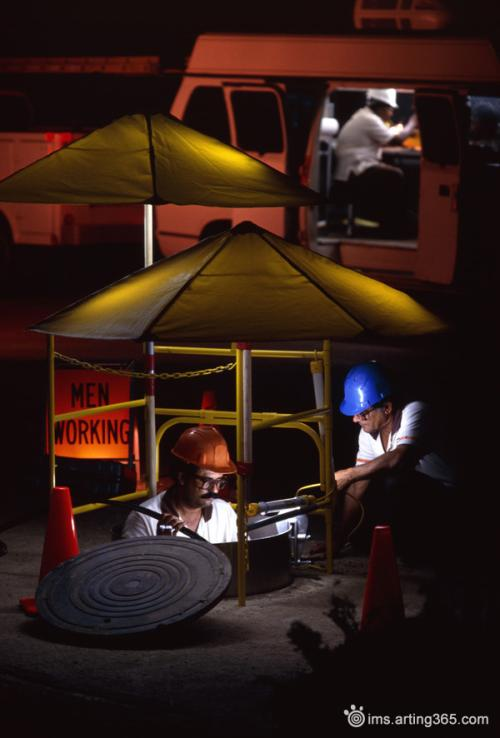hard-hat: (169, 424, 238, 475), (338, 360, 392, 416), (366, 86, 399, 108)
person: (295, 360, 461, 565), (120, 424, 243, 544), (327, 87, 419, 236)
